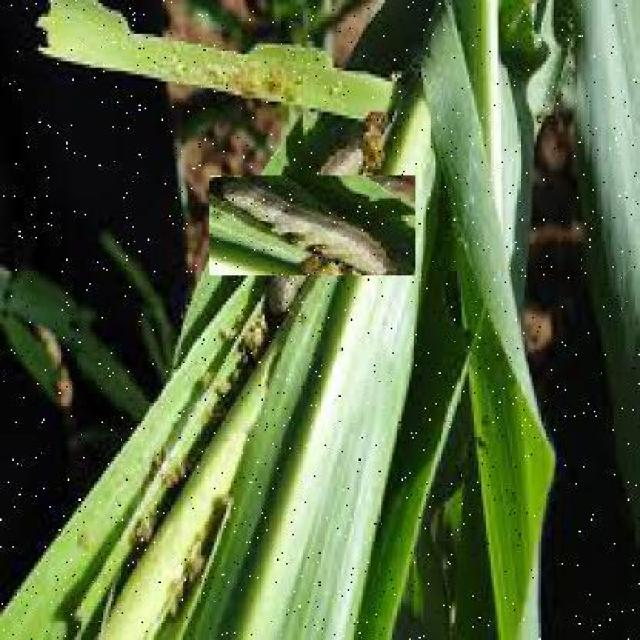Plaga: (236, 148, 391, 303)
